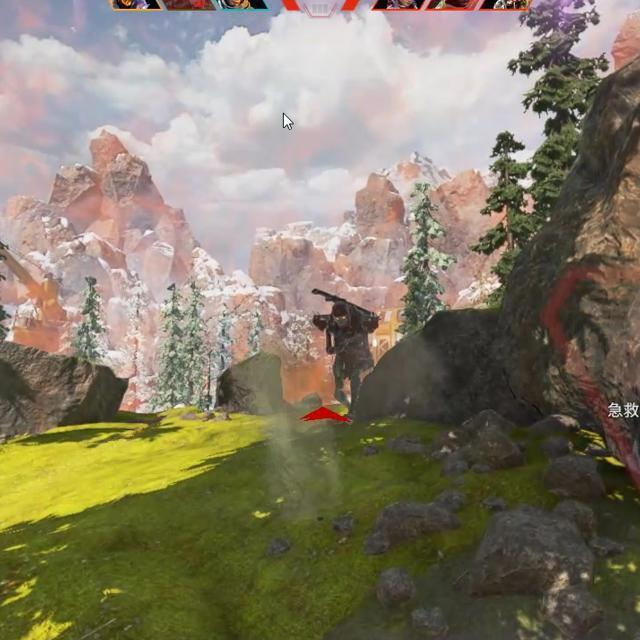avatar: (311, 298, 382, 414)
